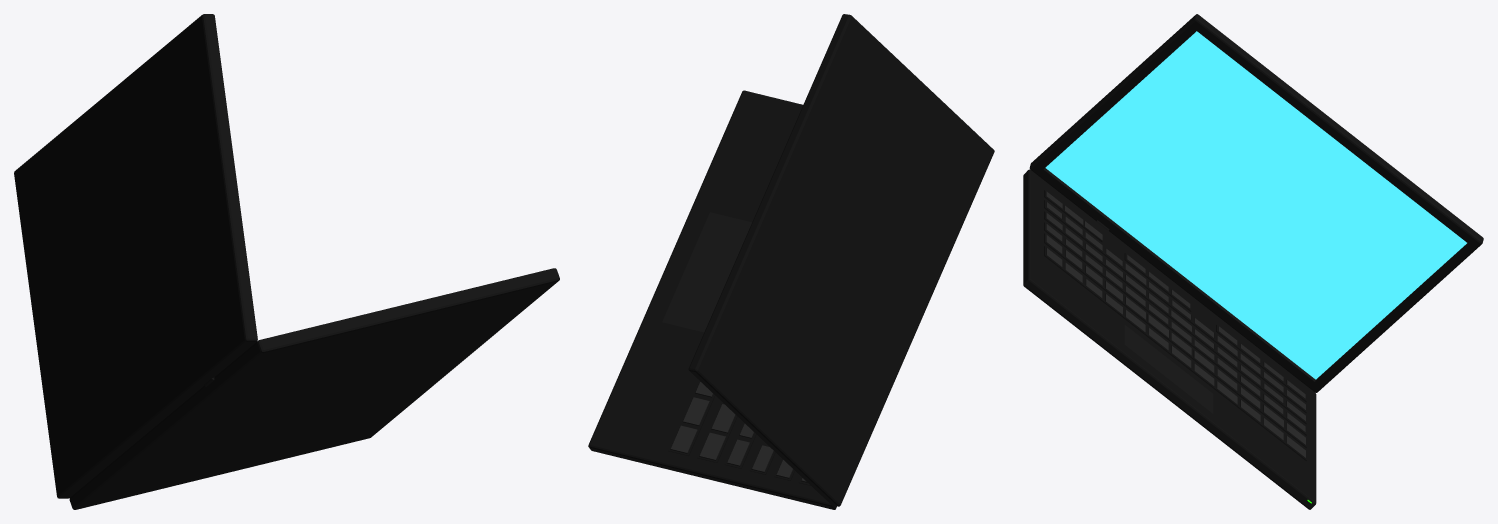
The model's file is laptop.glb.
The picture shows the model from 3 angles, left to right: view 1: azimuth 30°, elevation 25°; view 2: azimuth 150°, elevation 25°; view 3: azimuth 270°, elevation 25°; orthographic projection. The views are drawn at different scales.
Parts seen in each view (by area): view 1: LaptopMontor, LaptopBase; view 2: LaptopMontor, LaptopBase; view 3: LaptopMontor, LaptopBase.
Part boxes in pixels (left/top/right/bottom): LaptopMontor: left=14, top=14, right=257, bottom=498; LaptopBase: left=69, top=268, right=559, bottom=509; LaptopMontor: left=688, top=14, right=994, bottom=506; LaptopBase: left=588, top=90, right=836, bottom=509; LaptopMontor: left=1029, top=14, right=1483, bottom=392; LaptopBase: left=1023, top=169, right=1316, bottom=509.
Size of the model in its own units: 18.14 by 30.03 by 30.81.
